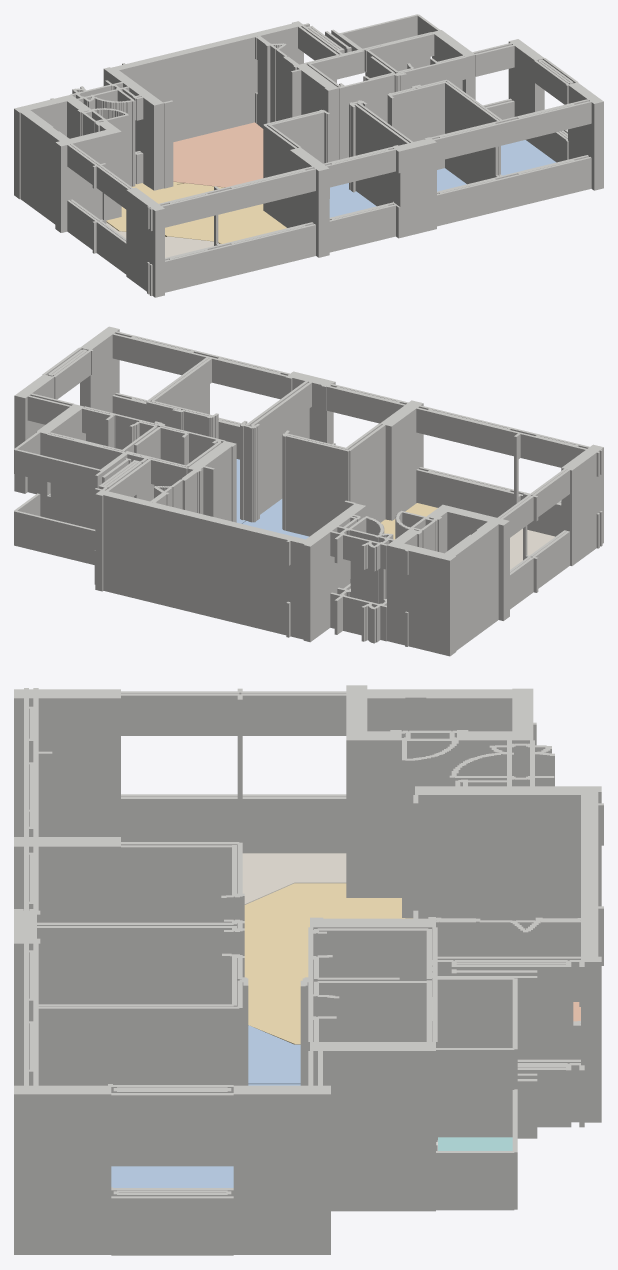
The picture shows the model from 3 angles, top to bottom: view 1: azimuth 30°, elevation 25°; view 2: azimuth 150°, elevation 25°; view 3: azimuth 270°, elevation 25°; orthographic projection. The views are drawn at different scales.
Parts seen in each view (by area): view 1: walls, room:kitchen:0, room:living:4, room:bedroom:9, room:bedroom:7, room:other:6, room:bedroom:8; view 2: walls, room:other:6, room:bedroom:7, room:living:4; view 3: walls, room:living:4, room:other:6, room:bedroom:9, room:bedroom:7, room:bath:3.
Boxes of the visible parts, x1=… form: walls: x1=14, y1=14, x2=603, y2=297; room:kitchen:0: x1=173, y1=122, x2=263, y2=187; room:living:4: x1=106, y1=182, x2=286, y2=243; room:bedroom:9: x1=501, y1=140, x2=556, y2=175; room:bedroom:7: x1=329, y1=183, x2=376, y2=217; room:other:6: x1=106, y1=222, x2=221, y2=257; room:bedroom:8: x1=437, y1=168, x2=466, y2=191; walls: x1=14, y1=326, x2=603, y2=656; room:other:6: x1=510, y1=528, x2=554, y2=569; room:bedroom:7: x1=243, y1=499, x2=308, y2=539; room:living:4: x1=381, y1=503, x2=437, y2=539; walls: x1=14, y1=685, x2=603, y2=1255; room:living:4: x1=244, y1=883, x2=412, y2=1044; room:other:6: x1=242, y1=853, x2=346, y2=904; room:bedroom:9: x1=111, y1=1166, x2=233, y2=1187; room:bedroom:7: x1=248, y1=1025, x2=300, y2=1084; room:bath:3: x1=438, y1=1137, x2=512, y2=1150.
Size of the model in its own units: 15.34 by 2.8 by 9.33.
